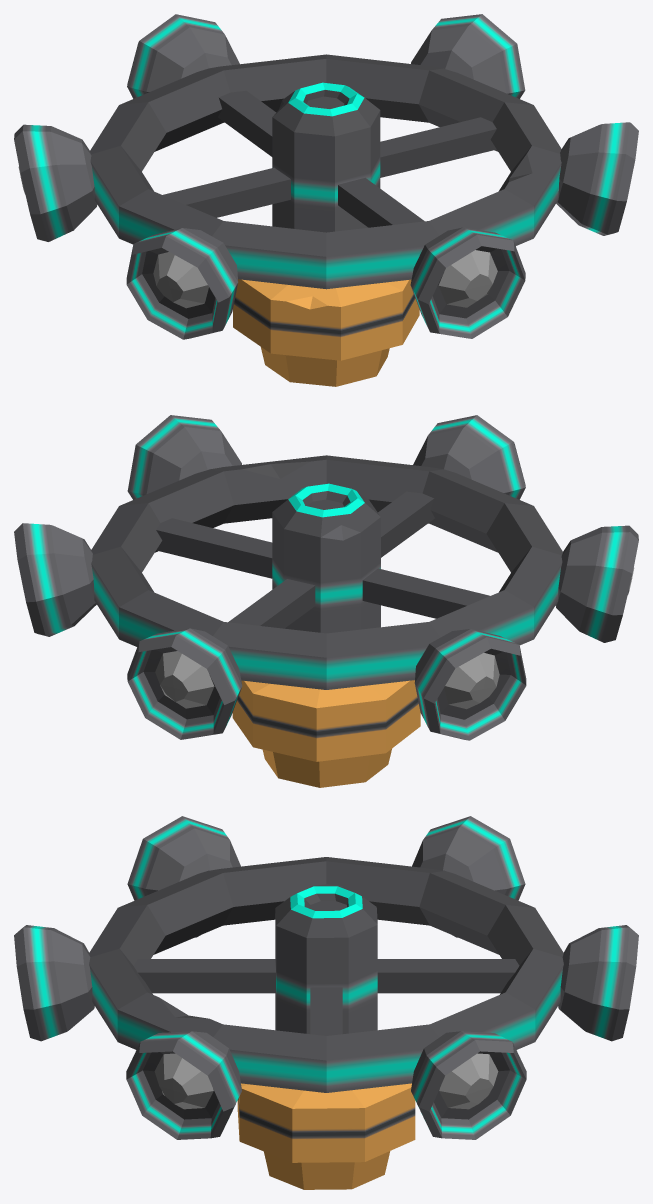
File: SM_Prop_Hover_Light_05.fbx
3 renders of one model, top to bottom at view 1: azimuth 30°, elevation 25°; view 2: azimuth 150°, elevation 25°; view 3: azimuth 270°, elevation 25°, orthographic.
Visible parts, largest first — view 1: SM_Prop_Hover_Light_05; view 2: SM_Prop_Hover_Light_05; view 3: SM_Prop_Hover_Light_05.
Part boxes in pixels (x1=…): SM_Prop_Hover_Light_05: x1=14, y1=14, x2=638, y2=386; SM_Prop_Hover_Light_05: x1=14, y1=415, x2=638, y2=787; SM_Prop_Hover_Light_05: x1=14, y1=816, x2=638, y2=1189.
Size of the model in its own units: 81.24 by 41.14 by 87.38.
